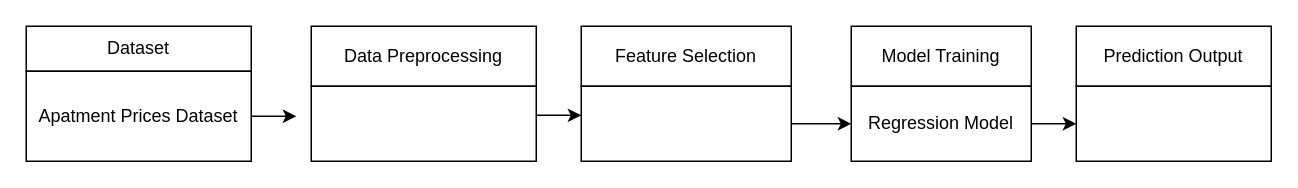
Image size: 1298x188. Some labels were removed from this diagram. Here are the shapes that lost their labels. From the top down, the centre of each, then its label:
point 423,123: - Handle missing values - Feature selection - Data cleaning
point 685,123: - size, location - rooms - bathroom
point 1173,123: Prediction Apartment Price
